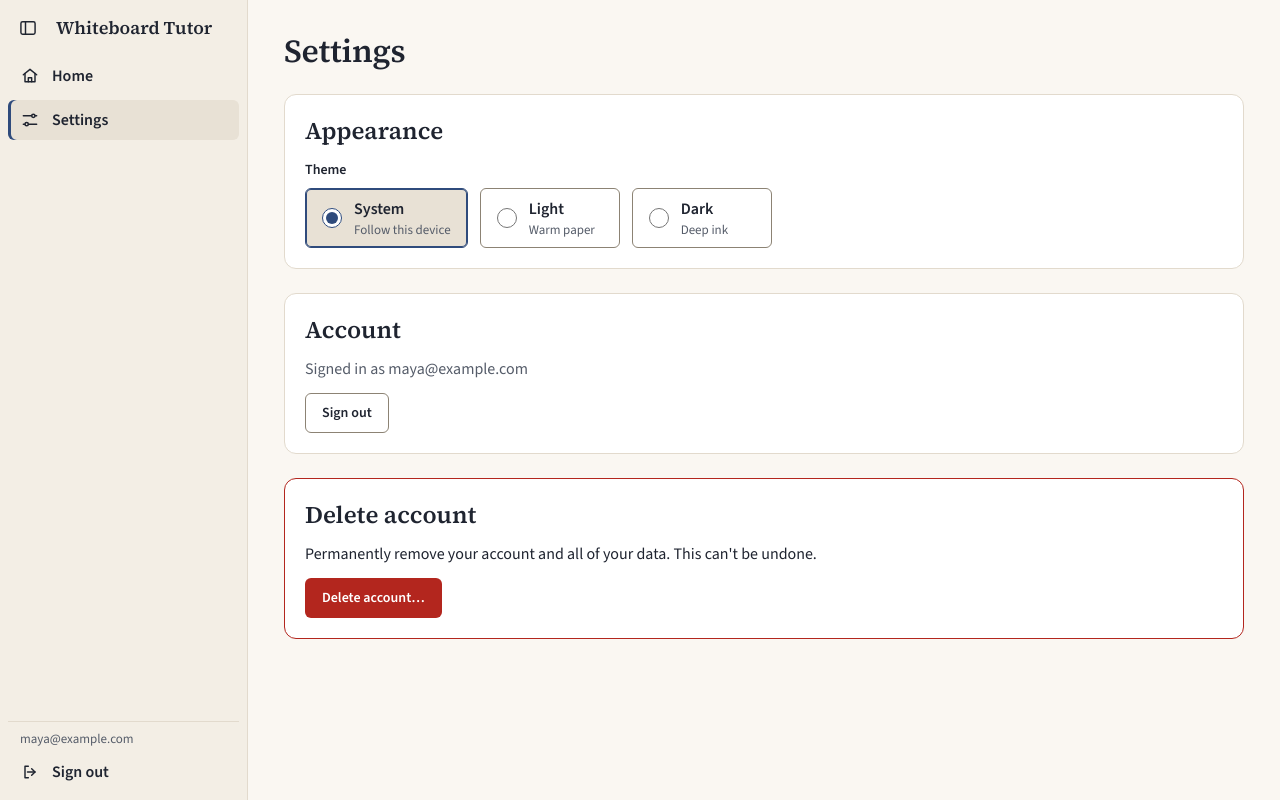
delete account dialog › moves focus in, traps Tab, and Escape closes and restores focus
Click the button "Delete account…": (373, 598) 305,578 -> 442,618
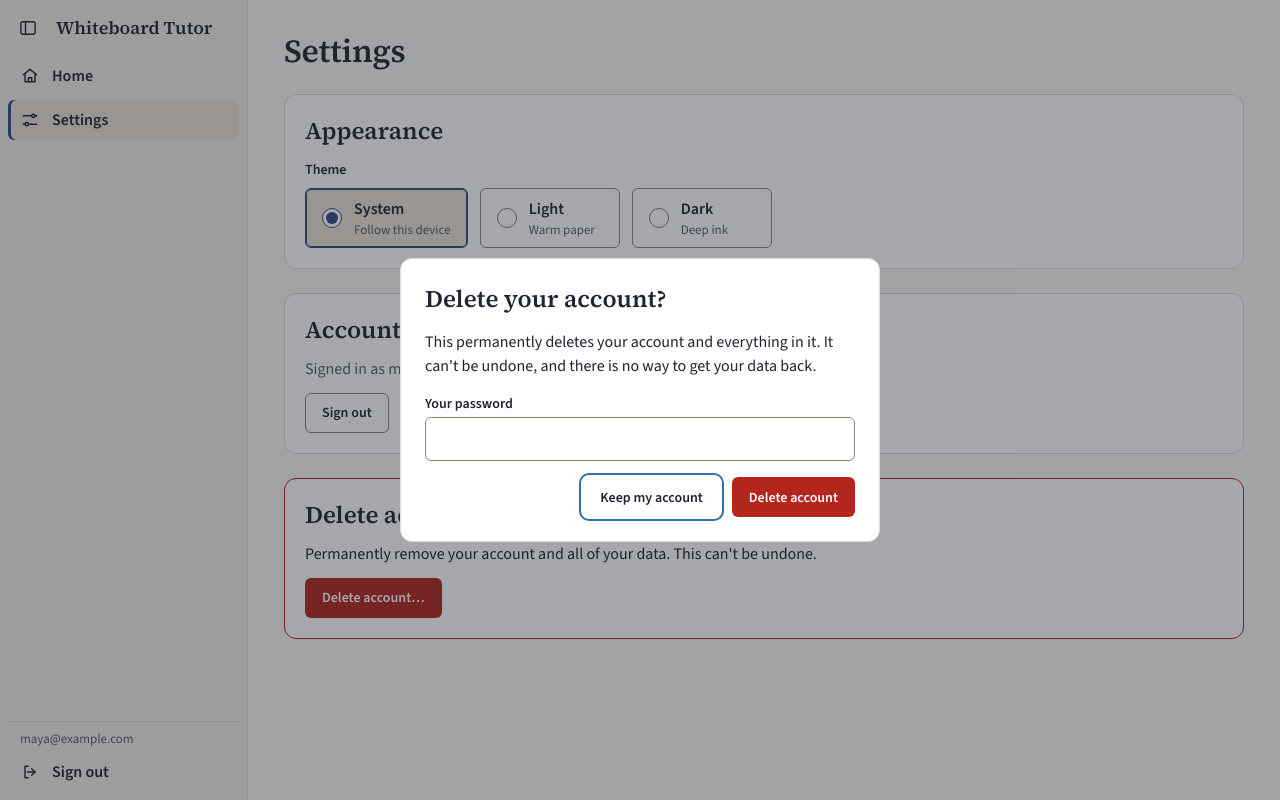
Press Shift+Tab
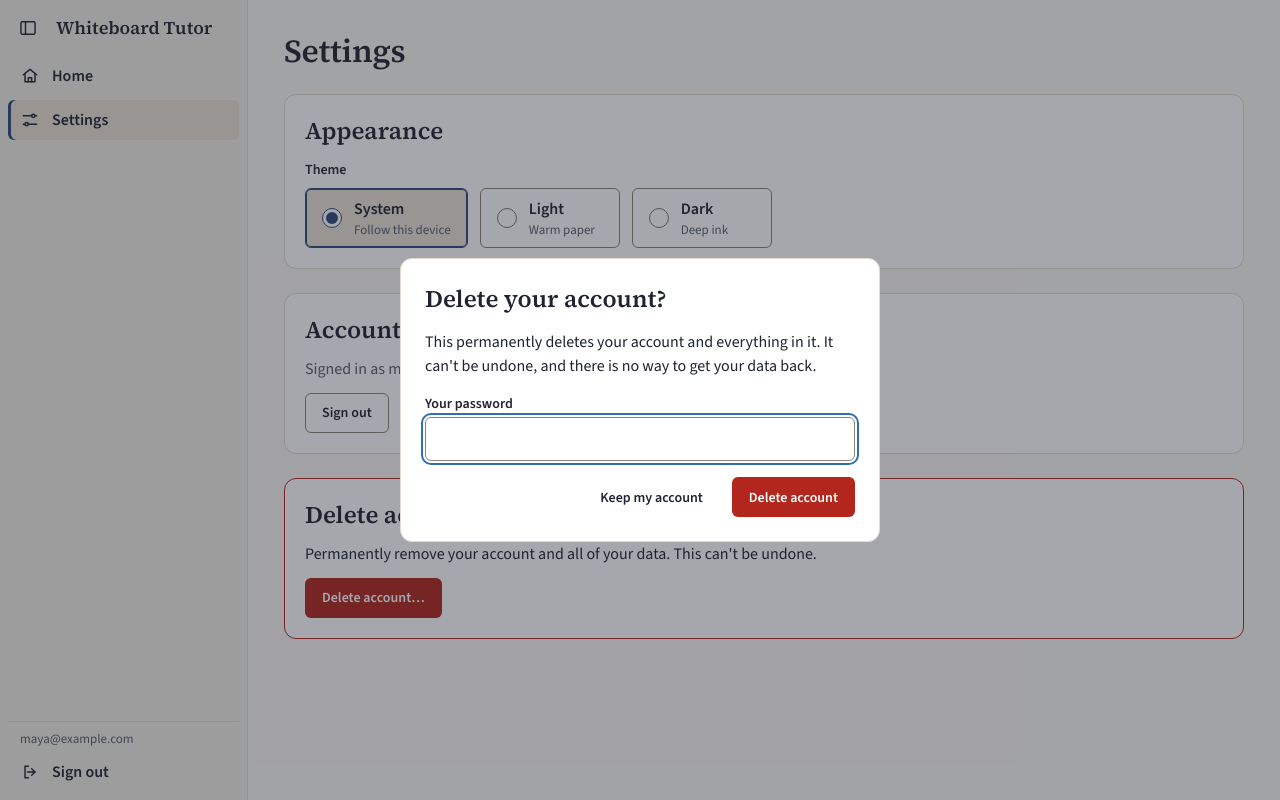
Press Shift+Tab
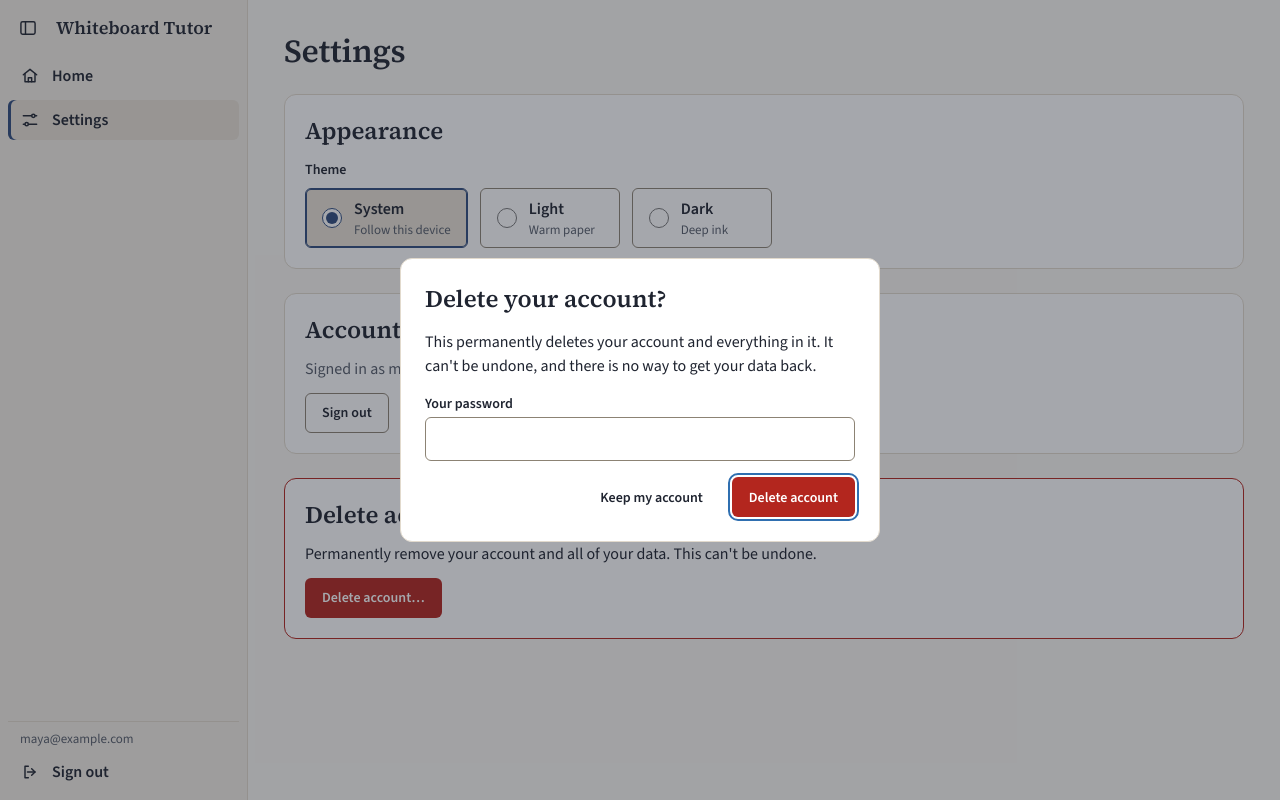
Press Tab
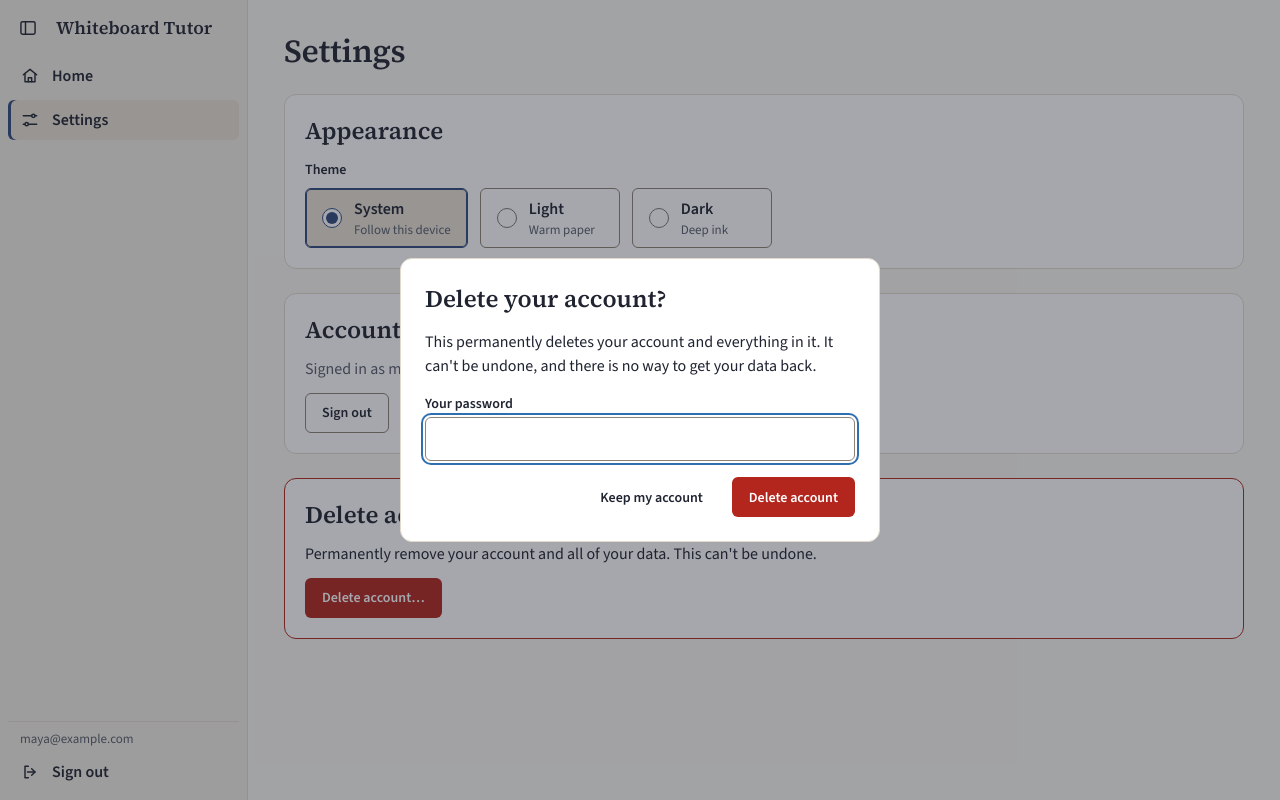
Press Escape
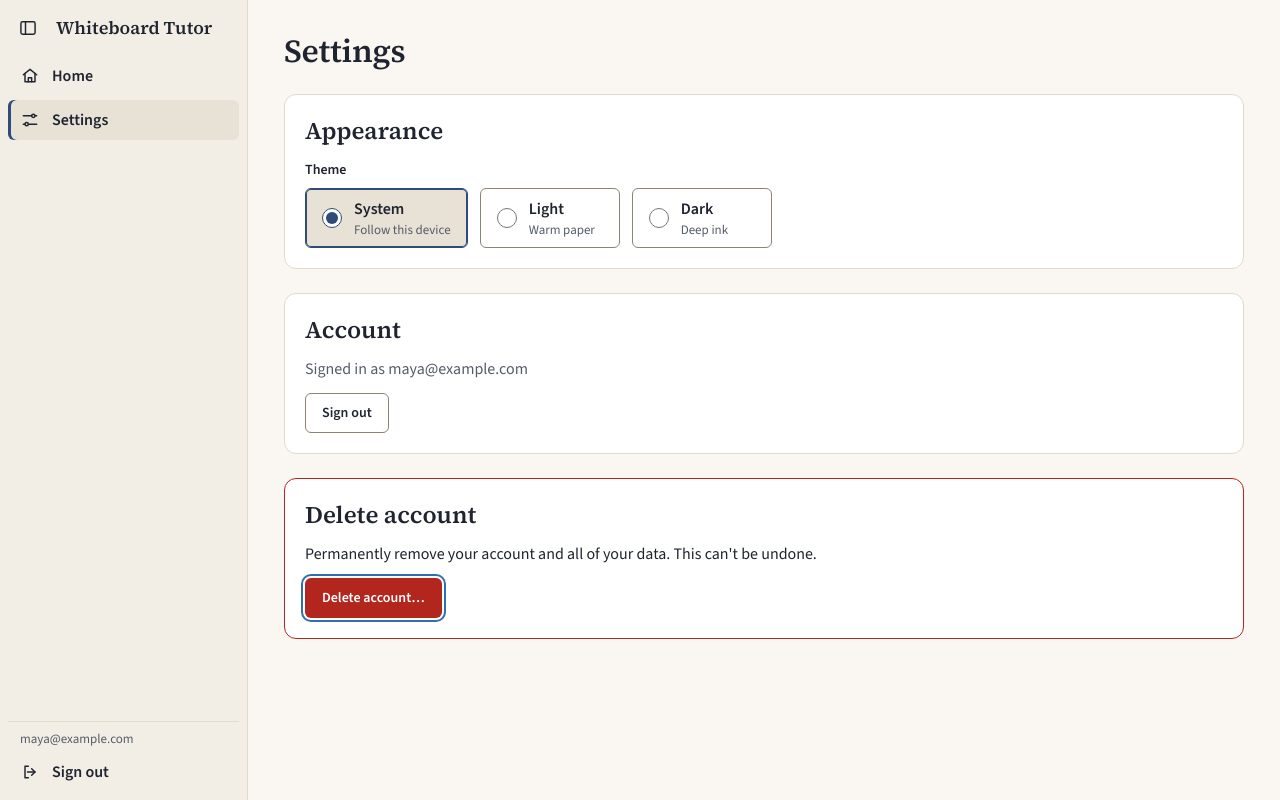
Check: the dialog is gone
